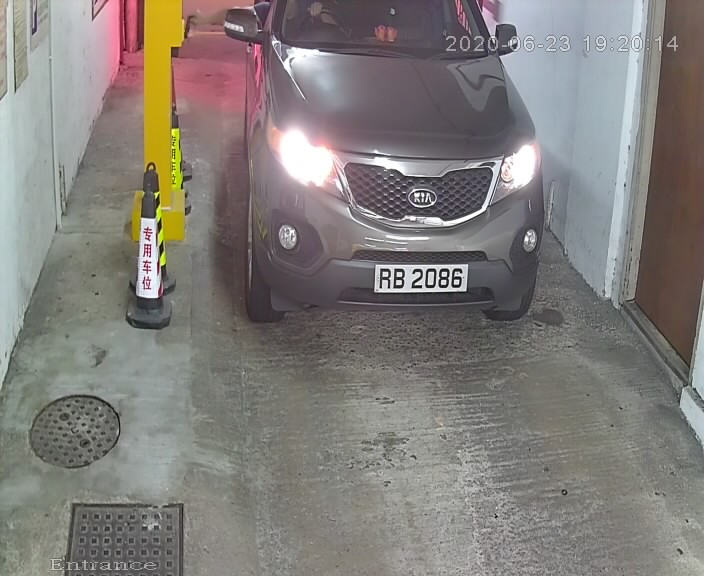privatecar: (216, 1, 563, 344)
